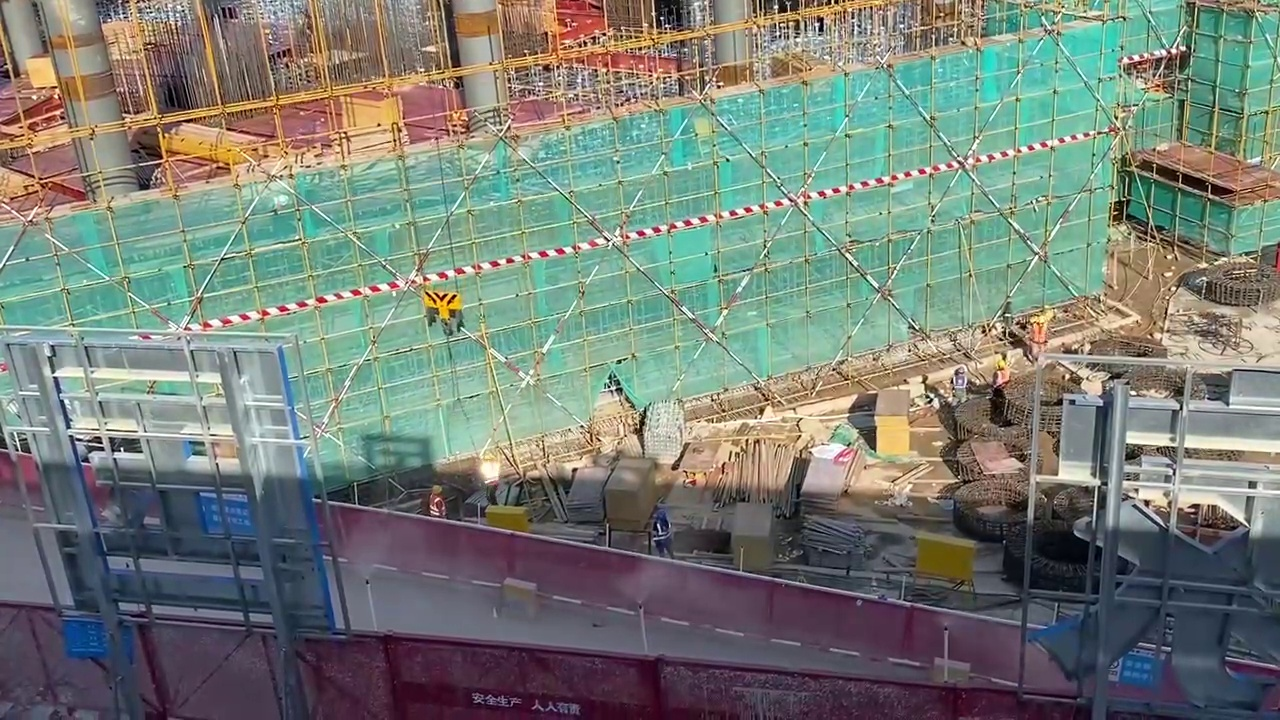board: (875, 388, 912, 457)
fence: (5, 599, 1015, 720)
hook: (423, 293, 467, 323)
person: (644, 508, 674, 555), (421, 479, 450, 521), (1028, 314, 1052, 358), (946, 363, 970, 395), (993, 359, 1008, 385)
wood: (730, 443, 796, 505)
